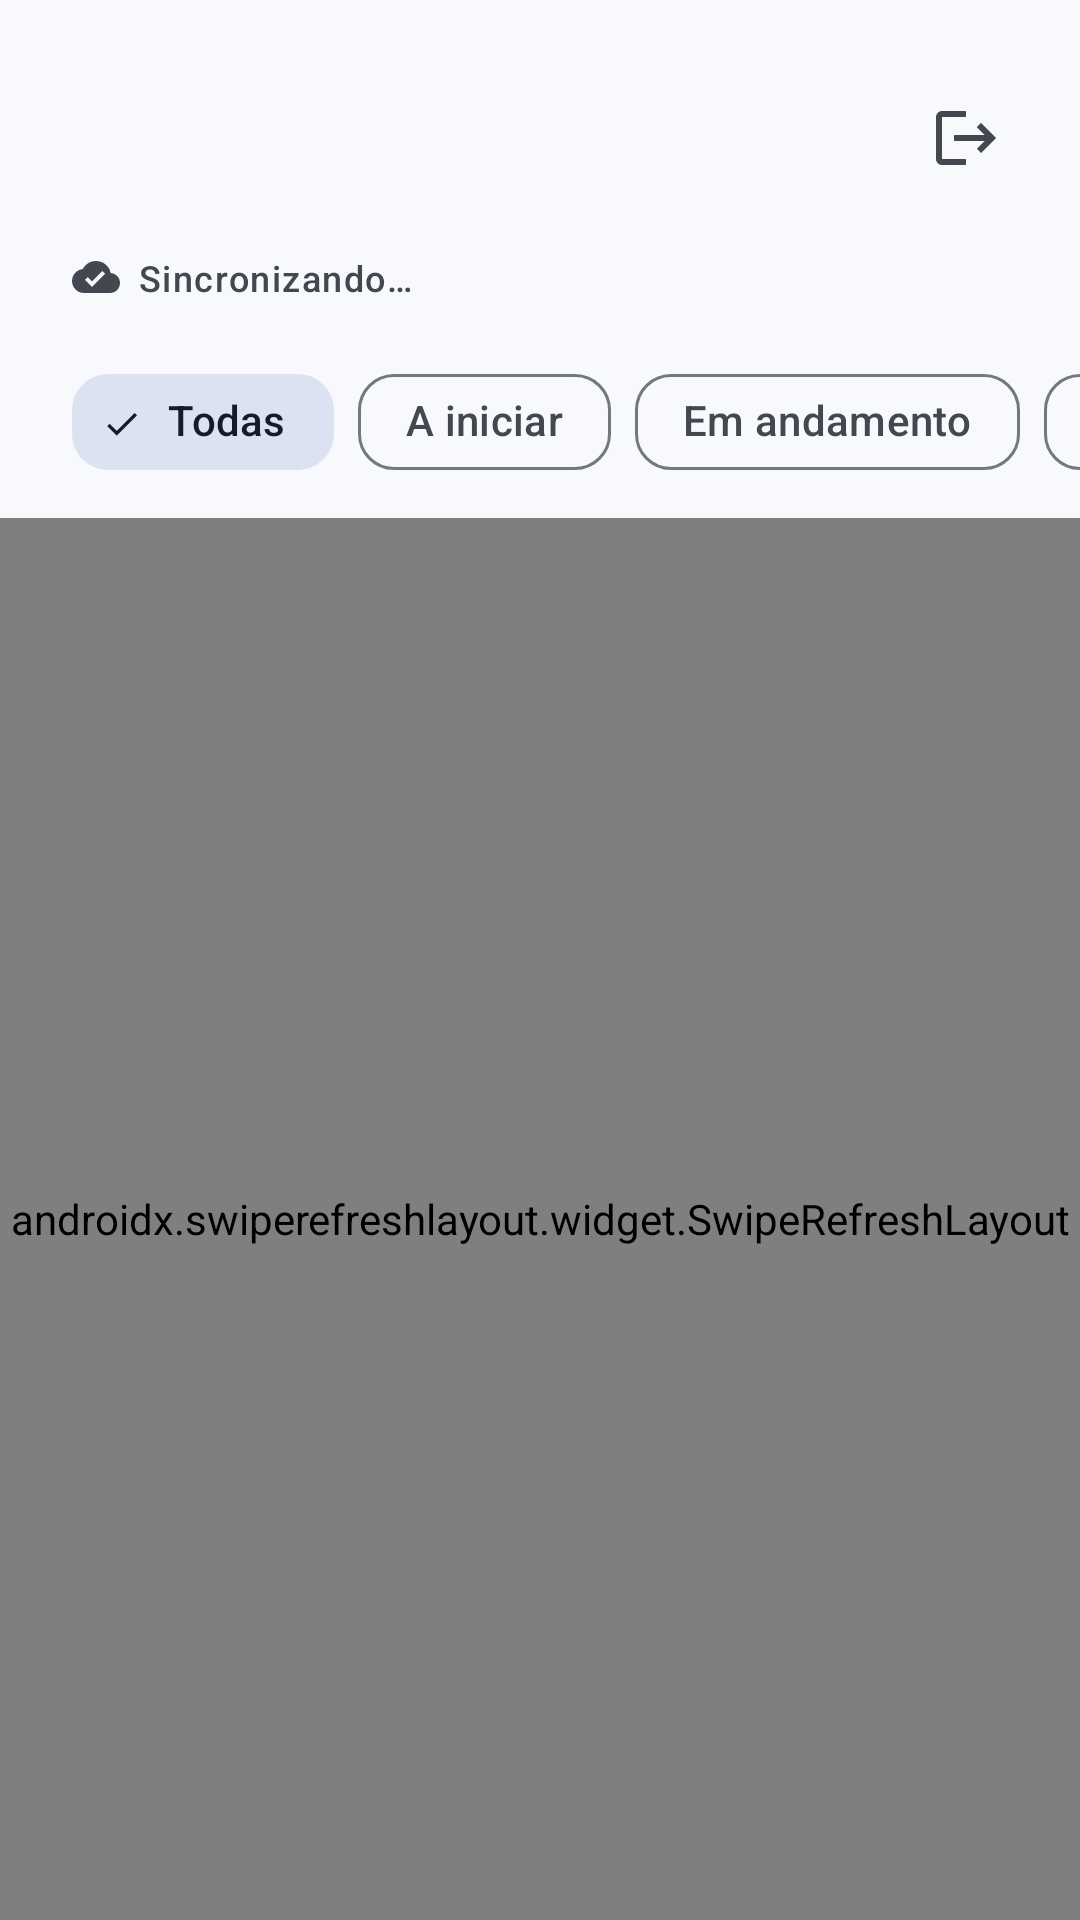

Screen size 1080px x 1920px. Icon name, then its center in pixels as (x=x, y=y):
cloud done: (x=96, y=277)
